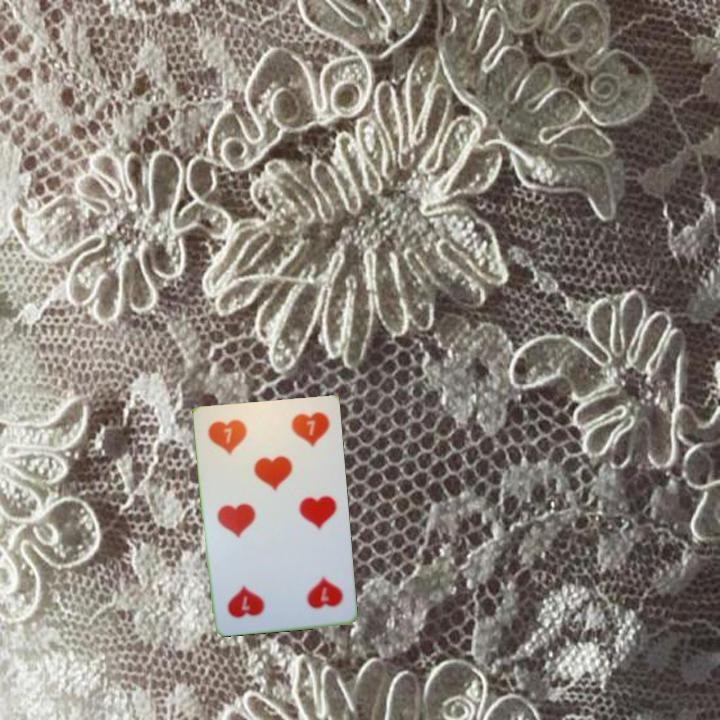h_7.png: (202, 410, 274, 473), (276, 558, 347, 621)
